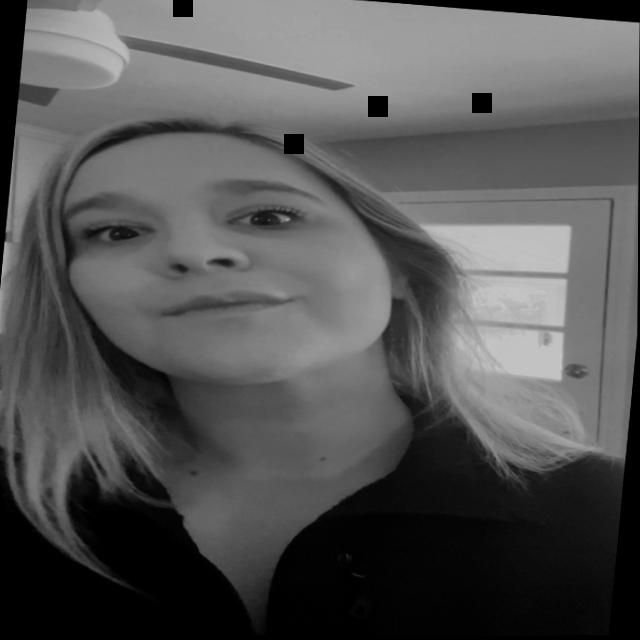NO-Mask: (22, 85, 437, 427)
